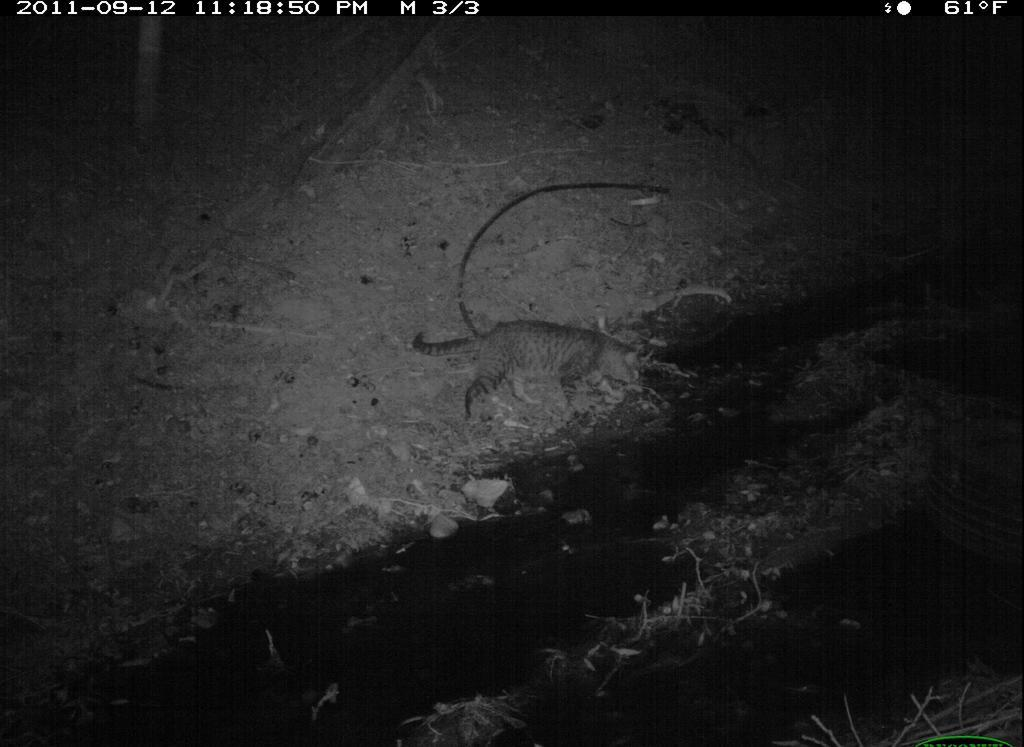cat: (414, 305, 648, 431)
